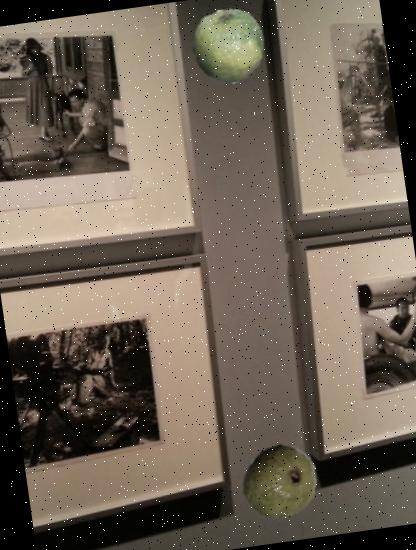Guava: (236, 438, 324, 525)
Limes: (186, 4, 272, 89)
